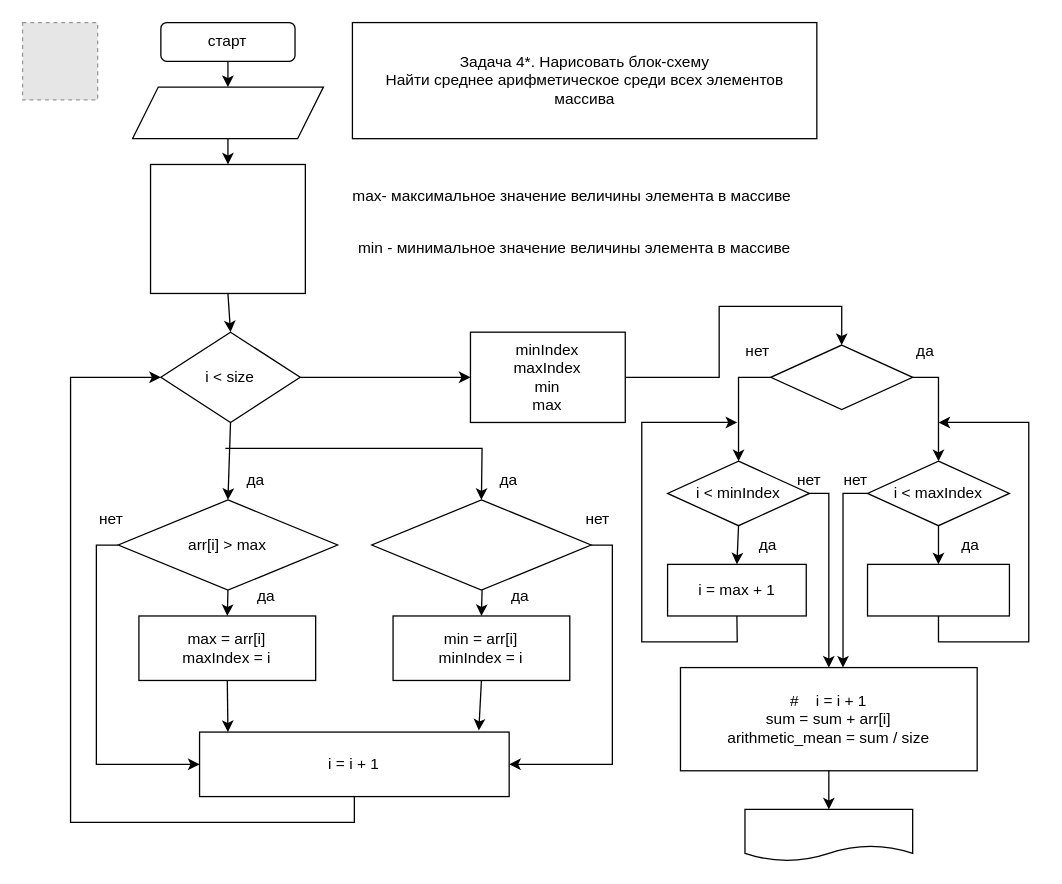
Some shapes in this 1062 by 884 pixel diagram are drawn without their labels. Grey dashed boxes stand in for pictures. The shapes that lost their labels are listed below. From the top down, each one's box as (x1, y1, x2, y2) in pixels, then its label:
(131, 86, 323, 139): N arr[ ]
(149, 163, 305, 293): i = 0 size = N max = arr[i] maxIndex = 0 min = arr[i] minIndex = 0 sum = 0
(769, 344, 913, 410): min <= max
(370, 499, 591, 590): arr[i] < min
(866, 563, 1009, 616): i = min + 1
(744, 808, 913, 861): arithmetic_mean
